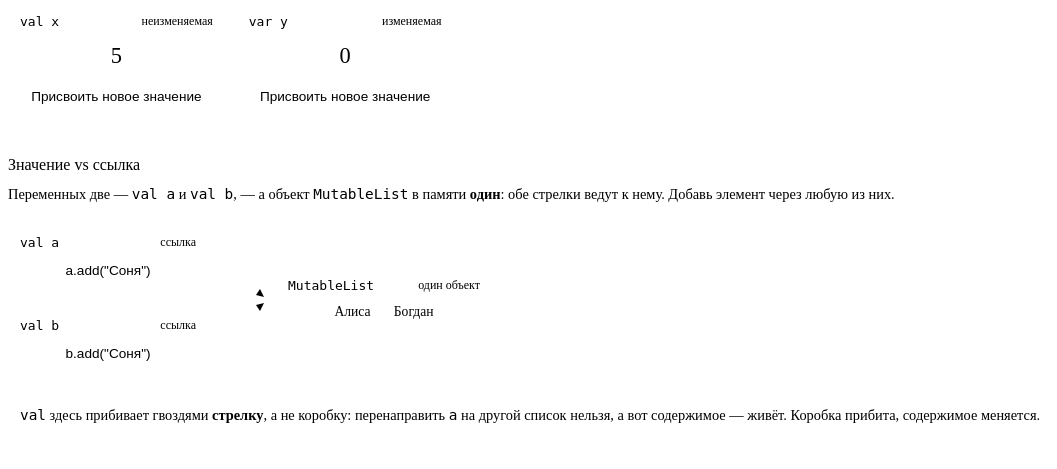
Test: список конечен: после всех имён кнопки отключаются
Click the button "a.add(\"Соня\")".
click(108, 270)  # box [20,258,196,282]
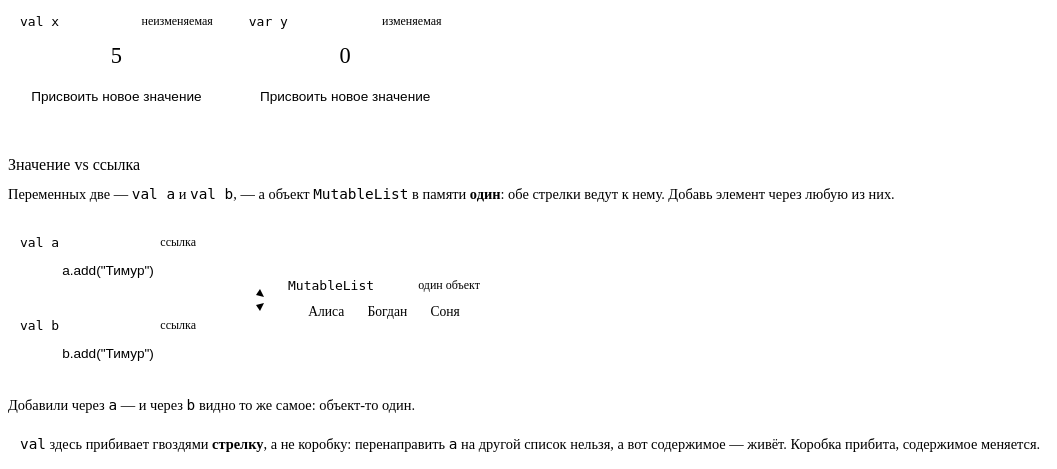
Click the button "a.add(\"Тимур\")".
click(108, 270)  # box [20,258,196,282]
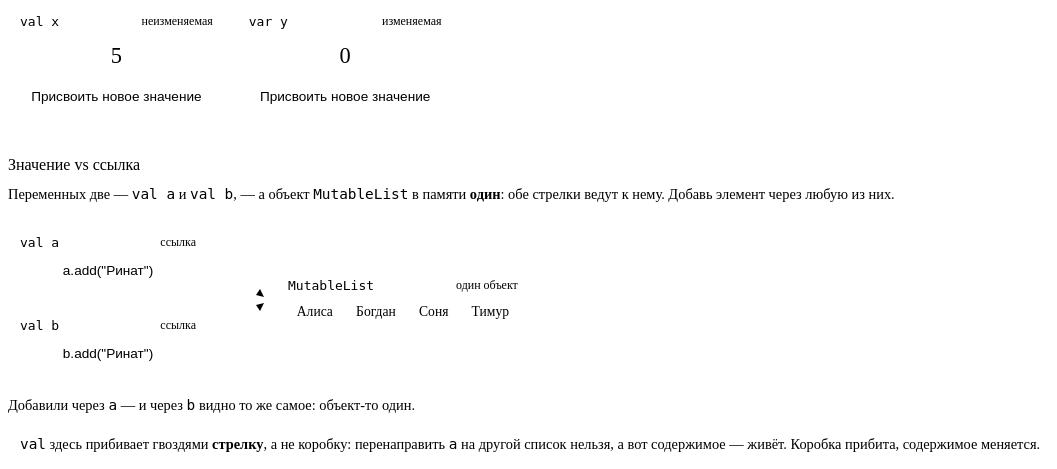
Click the button "a.add(\"Ринат\")".
click(108, 270)  # box [20,258,196,282]
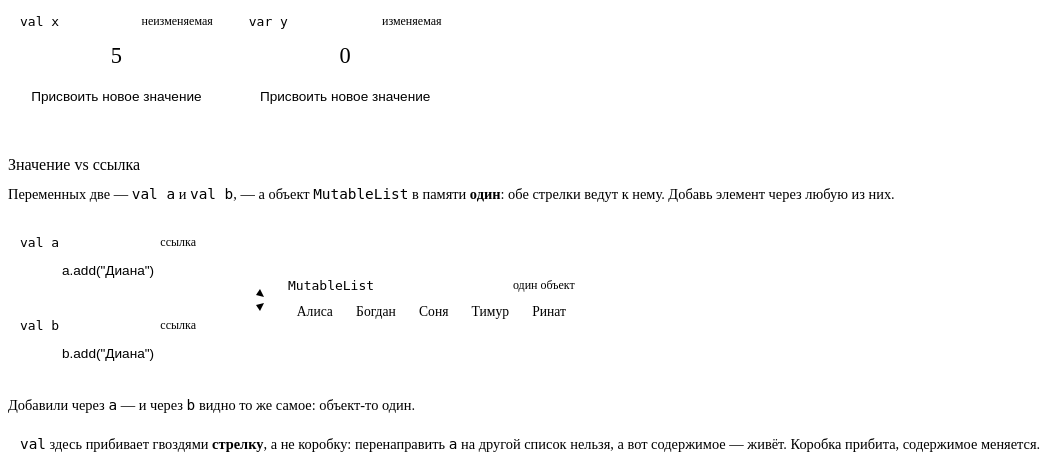
Click the button "a.add(\"Диана\")".
click(108, 270)  # box [20,258,196,282]
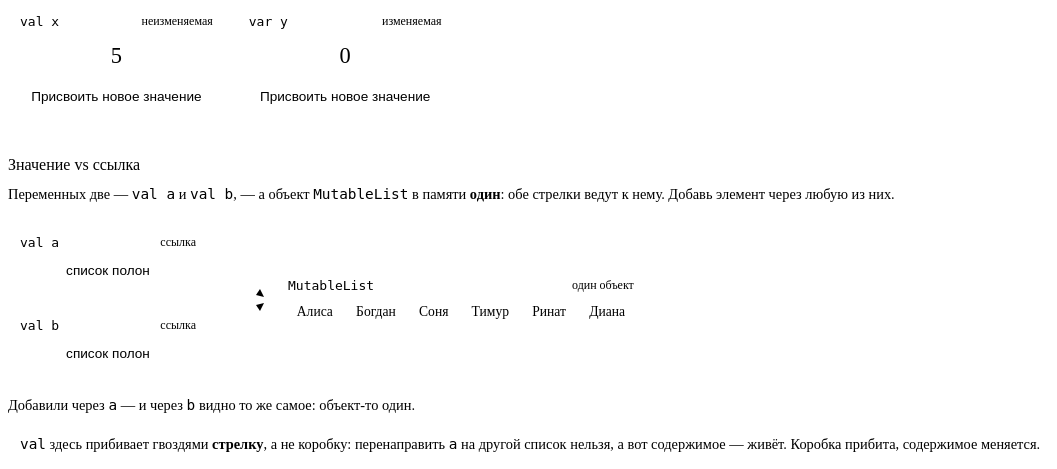
Check: the number of buttons "список полон" is 2, box [20,258,196,282]; [20,341,196,366]
Check: the 1st button "список полон" is disabled, box [20,258,196,282]
Check: the 2nd button "список полон" is disabled, box [20,341,196,366]
